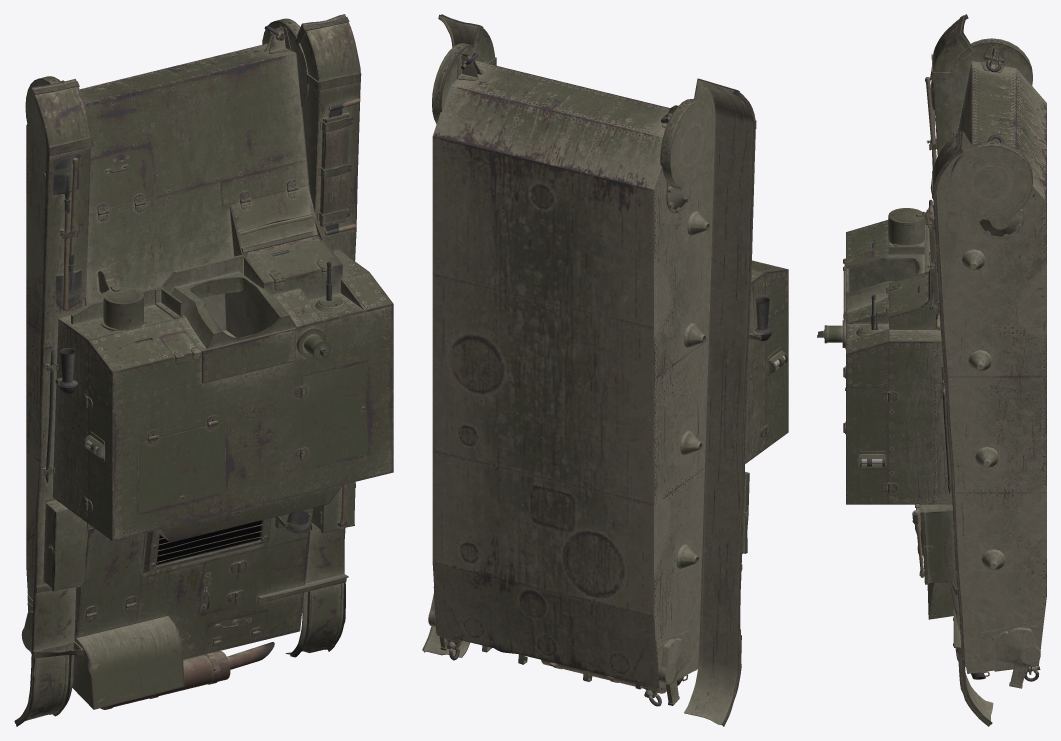
Rendered from Hull.glb.
3 views of the same model, side by side, from view 1: azimuth 30°, elevation 25°; view 2: azimuth 150°, elevation 25°; view 3: azimuth 270°, elevation 25° (orthographic). The views are drawn at different scales.
Parts seen in each view (by area): view 1: set_0_group_0; view 2: set_0_group_0; view 3: set_0_group_0.
Boxes of the visible parts, left/top/right/bottom form: set_0_group_0: left=14, top=14, right=393, bottom=726; set_0_group_0: left=422, top=14, right=788, bottom=726; set_0_group_0: left=817, top=14, right=1046, bottom=726.
Size of the model in its own units: 2.34 by 4.62 by 1.66.
1 material, 1 textured.
